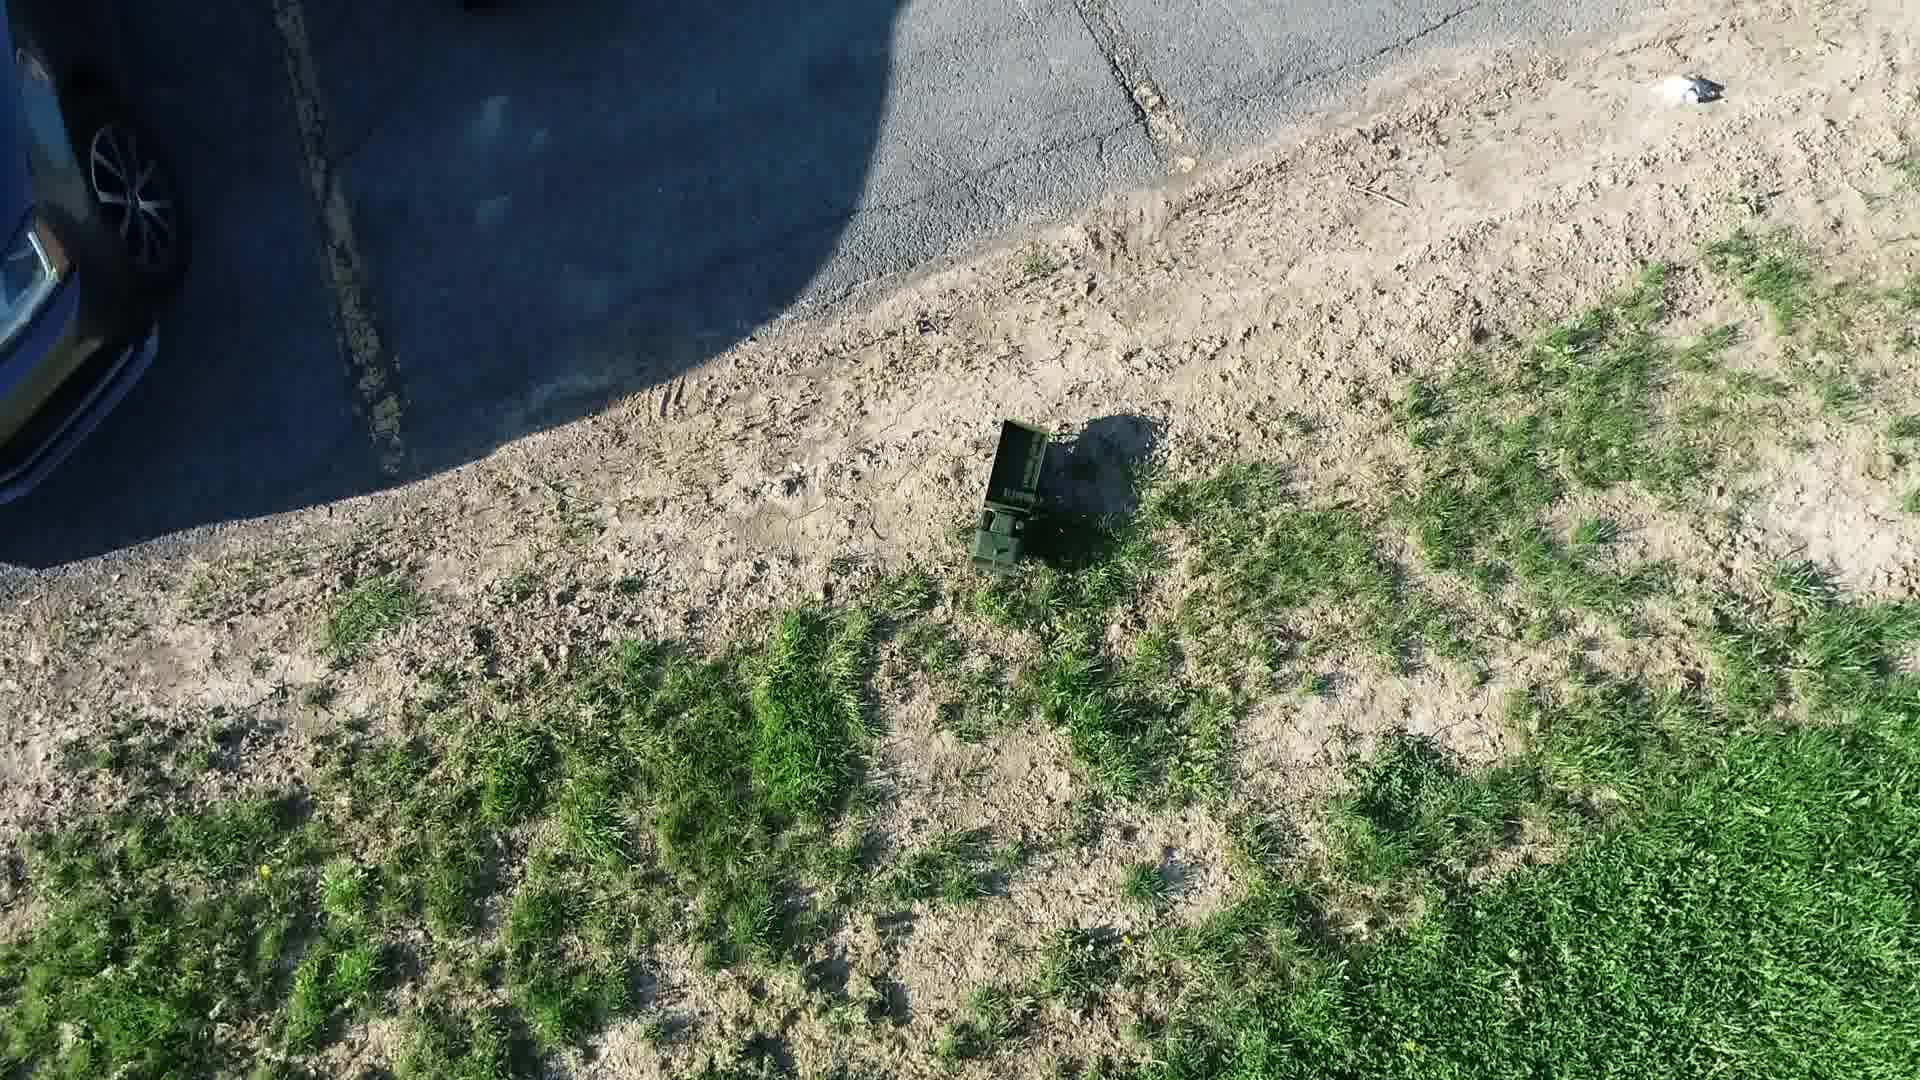transporter9: (959, 410, 1067, 579)
